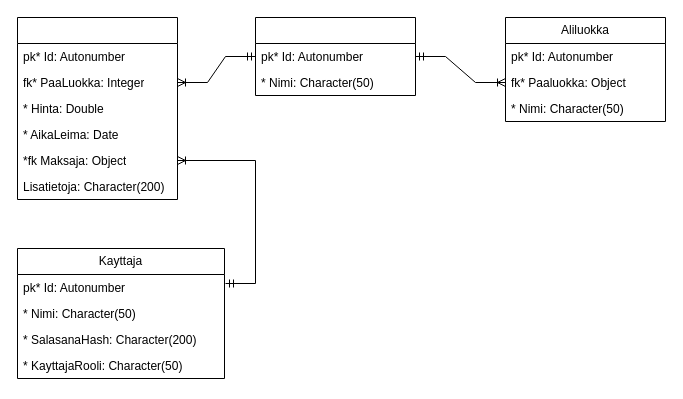
This 683x399 diagram has some shape labels left out. Here are the shapes that lost their labels. From the top down, the box of each, then its label:
(254, 16, 416, 96): Paaluokka
(16, 16, 178, 200): Menoera
